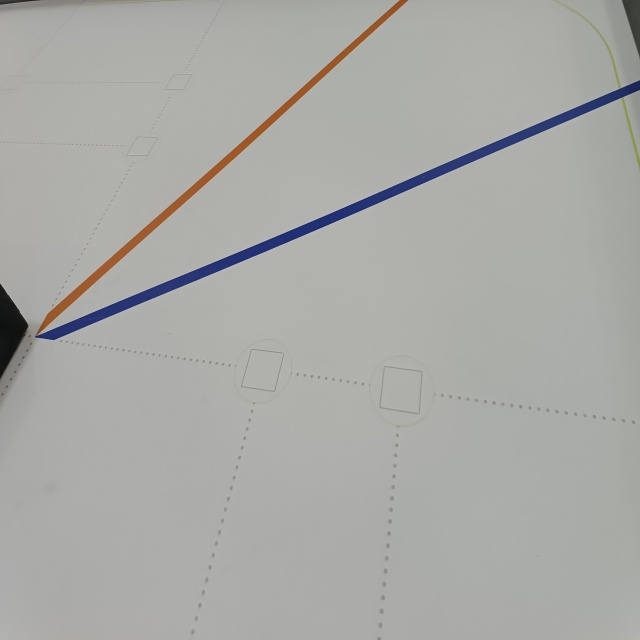blue line: (30, 66, 640, 345)
orange line: (22, 0, 415, 330)
